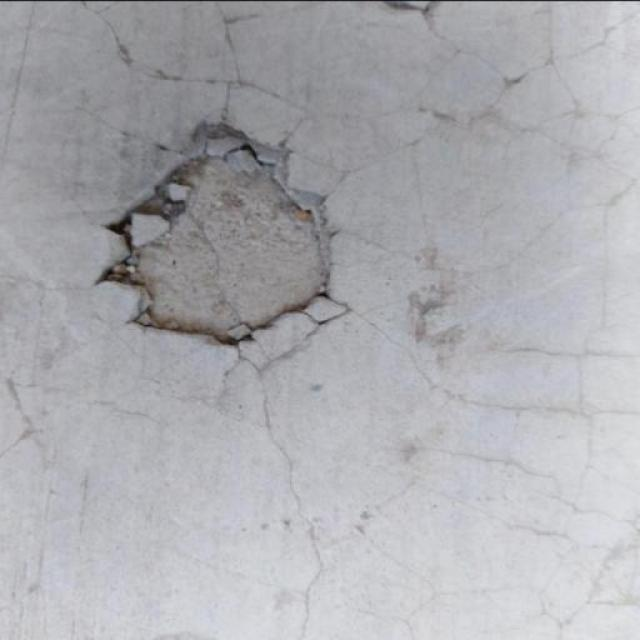D10: (96, 124, 329, 345)
